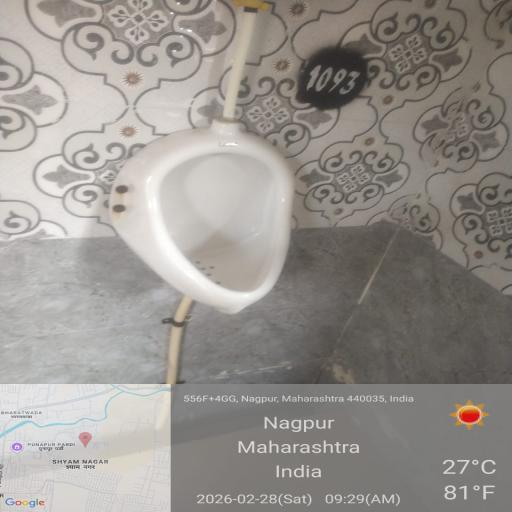clean_urinal: (97, 126, 330, 365)
